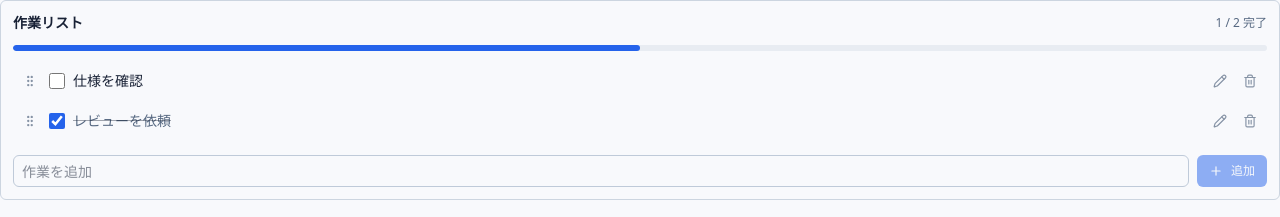
it: TaskWorkList › チェックボックスで完了状態を切り替える
Click the checkbox named "「仕様を確認」を完了にする" at point(57, 81), box [49,73,65,89]
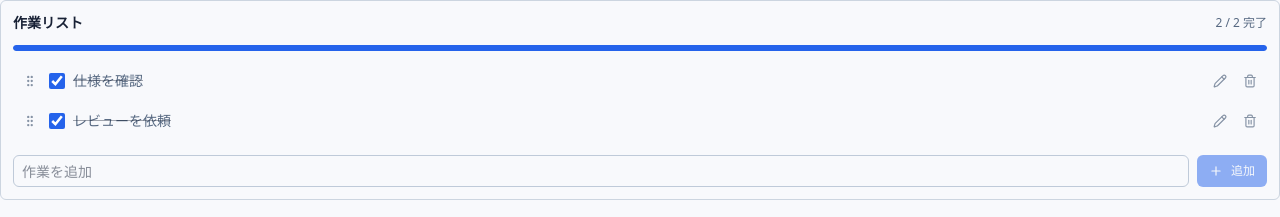
Expected: the checkbox named "「仕様を確認」を未完了に戻す" is checked, [49,73,65,89]
Expected: the text "2 / 2 完了" is shown, [1215,15,1267,31]
